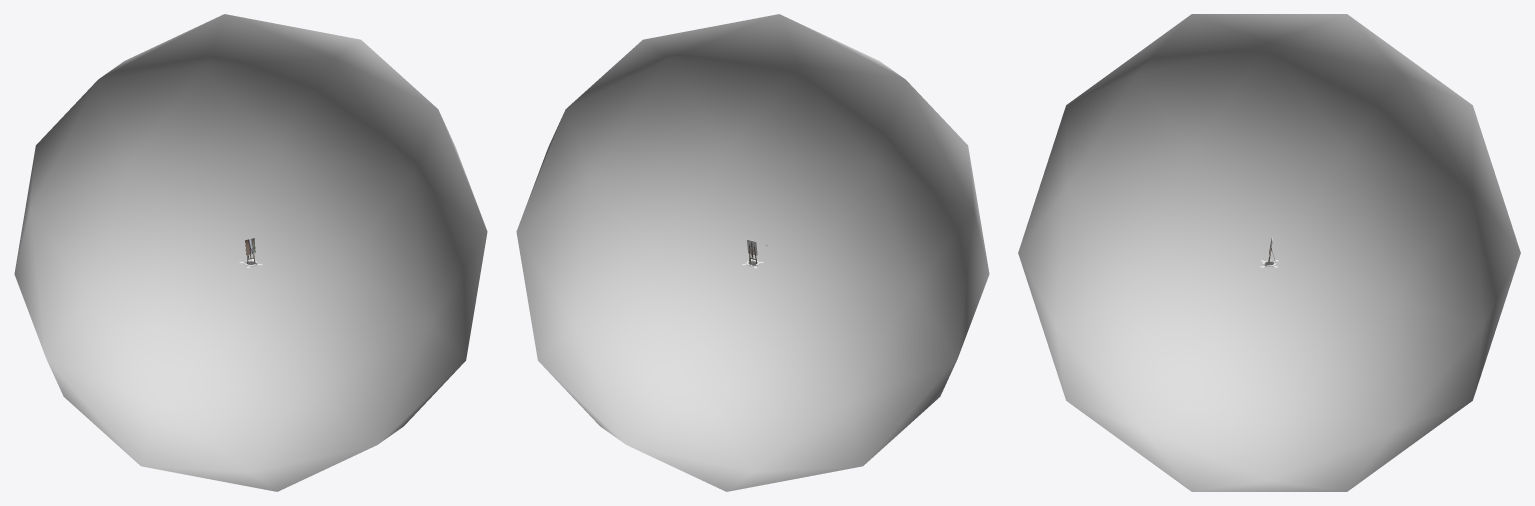
The model's file is template_photos_tableaux.gltf.
3 renders of one model, left to right at view 1: azimuth 30°, elevation 25°; view 2: azimuth 150°, elevation 25°; view 3: azimuth 270°, elevation 25°, orthographic. The views are drawn at different scales.
Visible parts, largest first — view 1: Icosphere; view 2: Icosphere; view 3: Icosphere.
Part boxes in pixels (x1,y1,x2,y2): Icosphere: [14, 14, 487, 491]; Icosphere: [516, 14, 989, 491]; Icosphere: [1018, 14, 1520, 491].
Size of the model in its own units: 34.92 by 36.72 by 36.72.
Materials: 13 (4 with a texture image).
